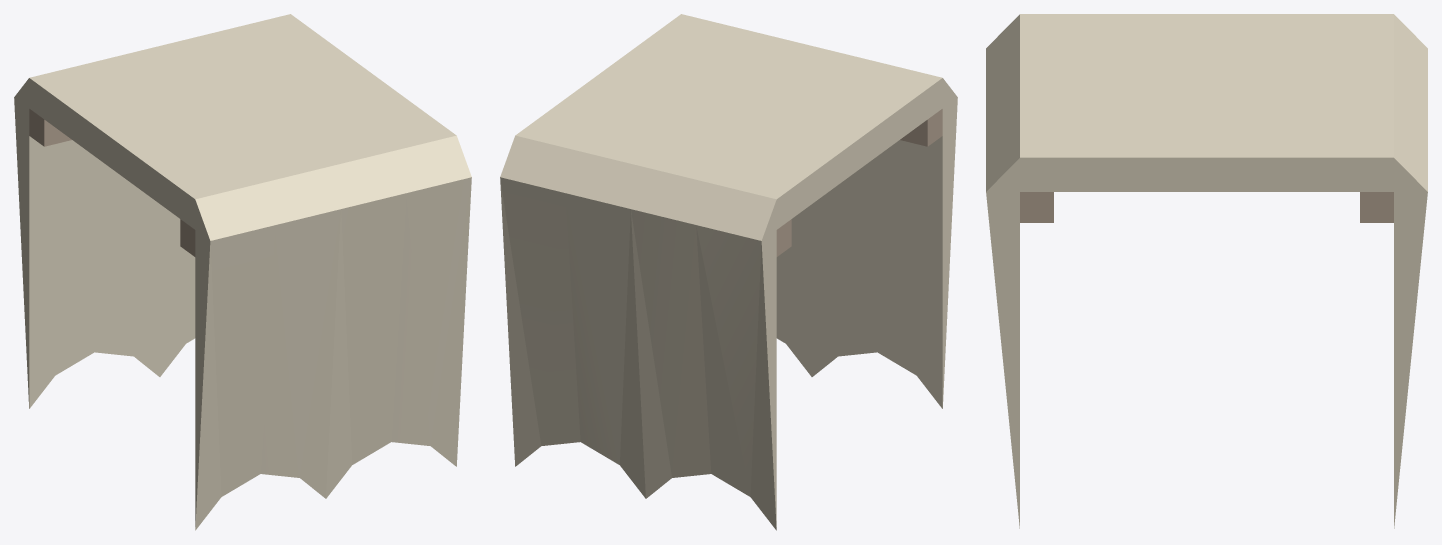
Rendered from Canopy_Sides_Opposite.glb.
3 views of the same model, side by side, from view 1: azimuth 30°, elevation 25°; view 2: azimuth 150°, elevation 25°; view 3: azimuth 270°, elevation 25° (orthographic). The views are drawn at different scales.
Parts seen in each view (by area): view 1: object2, object3; view 2: object2, object1; view 3: object2, object1, object3.
Part boxes in pixels (bbox=[...]): object2: bbox=[14, 14, 471, 530]; object3: bbox=[29, 109, 71, 146]; object2: bbox=[500, 14, 957, 530]; object1: bbox=[900, 109, 942, 146]; object2: bbox=[986, 14, 1427, 528]; object1: bbox=[1020, 192, 1053, 222]; object3: bbox=[1360, 192, 1393, 222].
Size of the model in its own units: 1 by 1.21 by 1.3.
